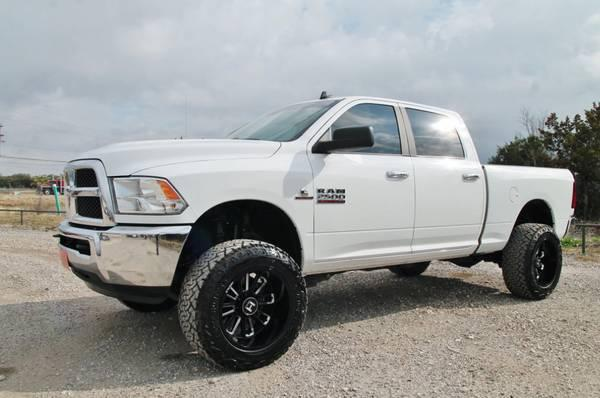Front_Bumper: (53, 219, 190, 286)
Front_Fender: (129, 142, 314, 273)
Front_Left_Door: (308, 156, 414, 274)
Front_Left_Window: (306, 98, 409, 156)
Front_Windshield: (228, 97, 342, 140)
Grille: (63, 156, 116, 228)
Hood: (71, 137, 280, 174)
Left_Headlight: (110, 173, 187, 222)
Rear_Fender: (473, 164, 573, 252)
Rear_Left_Door: (412, 158, 483, 261)
Rear_Left_Window: (396, 101, 478, 163)
Wheel: (177, 240, 308, 370), (502, 223, 562, 300)
